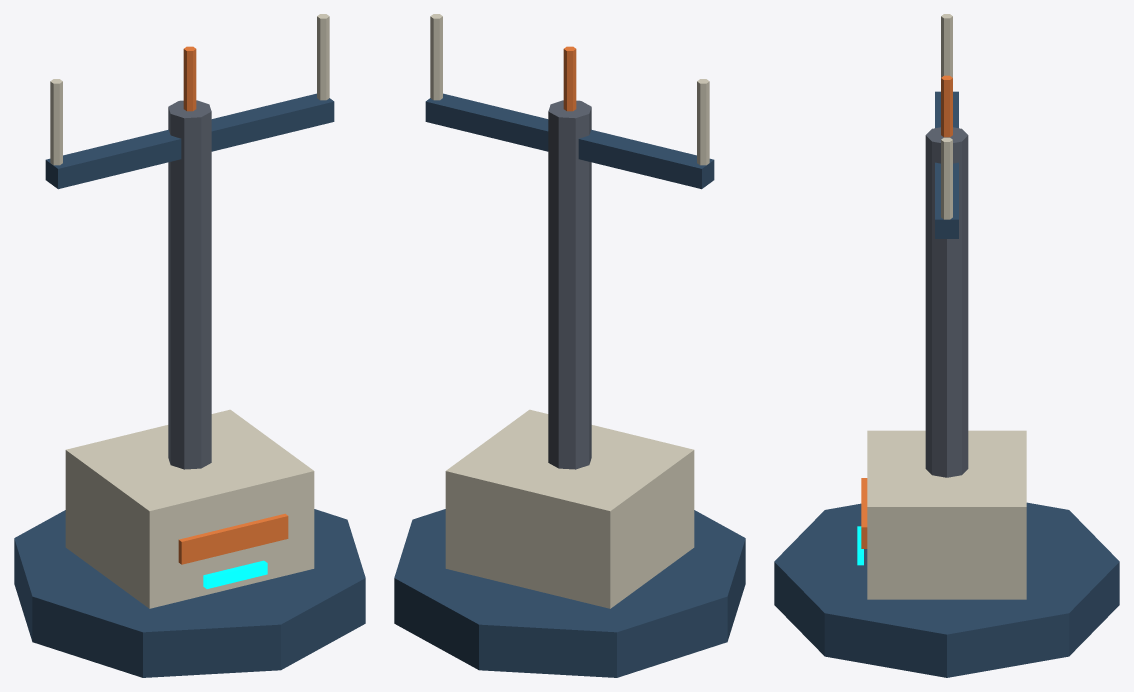
Rendered from relay.glb.
3 views of the same model, side by side, from view 1: azimuth 30°, elevation 25°; view 2: azimuth 150°, elevation 25°; view 3: azimuth 270°, elevation 25° (orthographic). The views are drawn at different scales.
Visible parts, largest first — view 1: relay_foundation, relay_power_box, relay_mast, relay_antenna_crossarm, relay_warning, relay_aerial_1.1, relay_aerial_-1.1, relay_status, relay_aerial_0; view 2: relay_power_box, relay_foundation, relay_mast, relay_antenna_crossarm, relay_aerial_1.1, relay_aerial_-1.1, relay_aerial_0; view 3: relay_foundation, relay_power_box, relay_mast, relay_antenna_crossarm, relay_aerial_1.1, relay_aerial_-1.1, relay_aerial_0.
Boxes of the visible parts, x1,y1,x2,y2 form: relay_foundation: (14,509,365,677); relay_power_box: (65,409,314,608); relay_mast: (168,100,211,469); relay_antenna_crossarm: (45,93,334,189); relay_warning: (178,513,288,564); relay_aerial_1.1: (317,14,329,100); relay_aerial_-1.1: (50,79,62,165); relay_status: (203,560,267,588); relay_aerial_0: (183,46,196,111); relay_power_box: (445,409,694,608); relay_foundation: (394,509,745,677); relay_mast: (548,100,591,469); relay_antenna_crossarm: (425,93,714,189); relay_aerial_1.1: (430,14,442,100); relay_aerial_-1.1: (697,79,709,165); relay_aerial_0: (563,46,576,111); relay_foundation: (774,502,1119,677); relay_power_box: (867,430,1026,599); relay_mast: (925,127,968,477); relay_antenna_crossarm: (935,91,958,238); relay_aerial_1.1: (941,137,952,219); relay_aerial_-1.1: (941,14,952,77); relay_aerial_0: (941,75,952,137).
Size of the model in its own units: 2.6 by 4.38 by 2.6.
